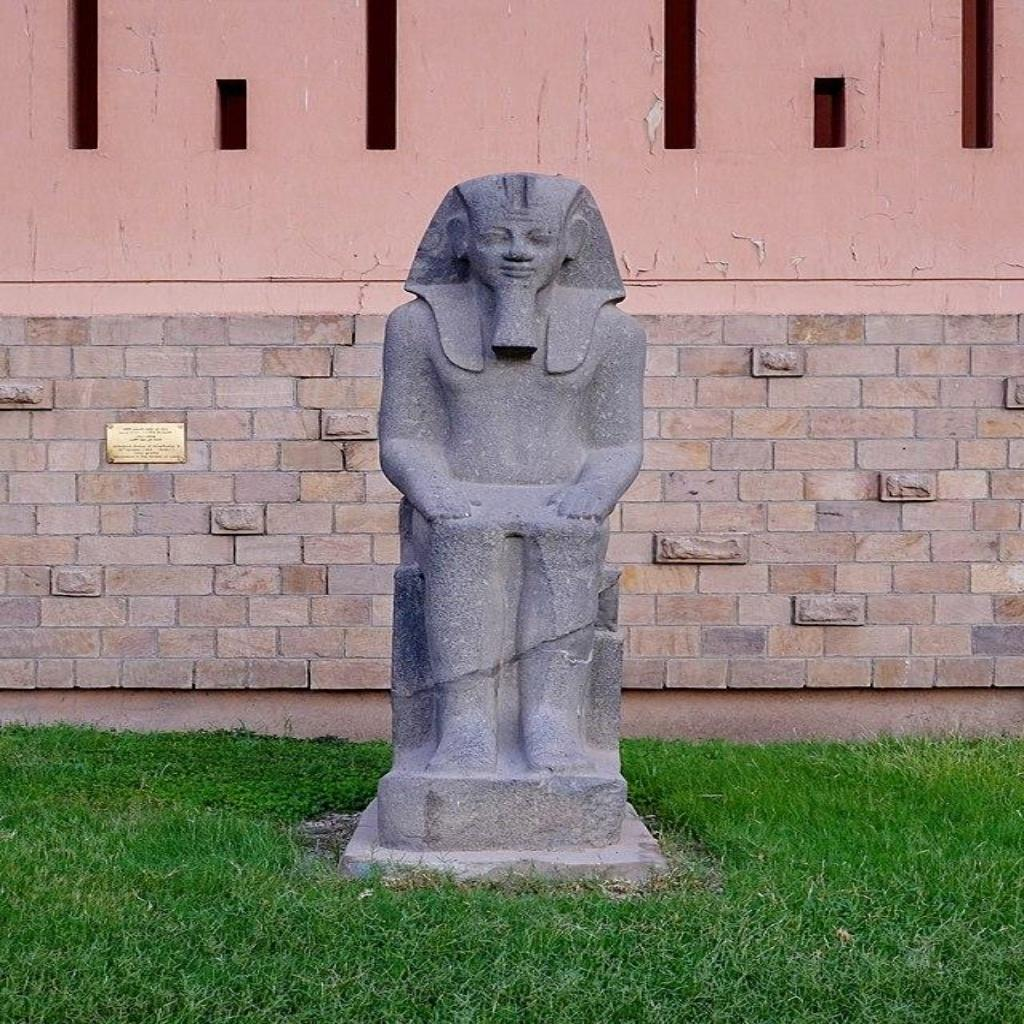Amenhotep III: (374, 168, 646, 884)
